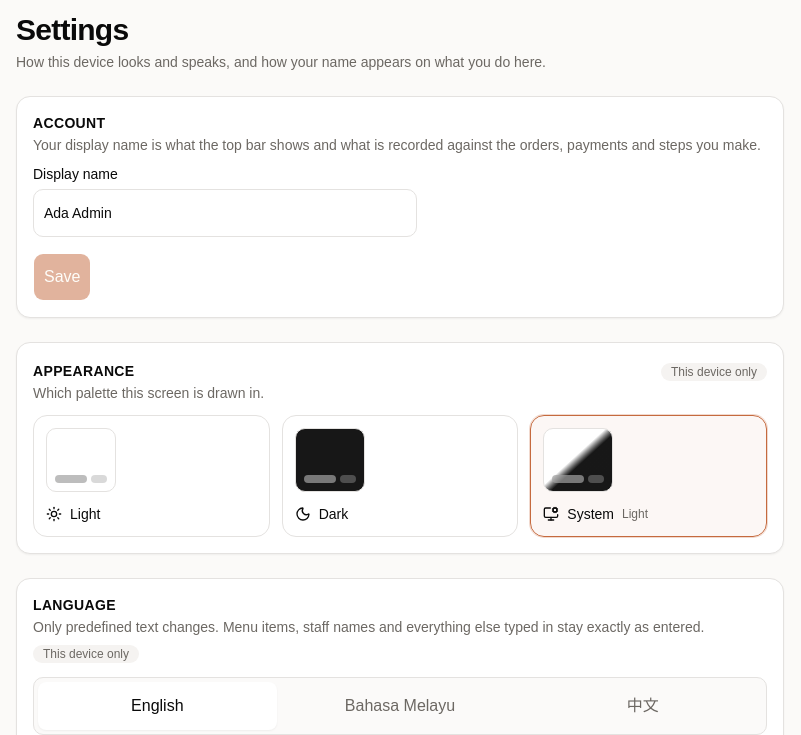
Test: the account panel › reports a refusal as something a person can act on
Replace the text in the field with test id "display-name" with "Ada Lovelace": (225, 213) [33,189,417,237]
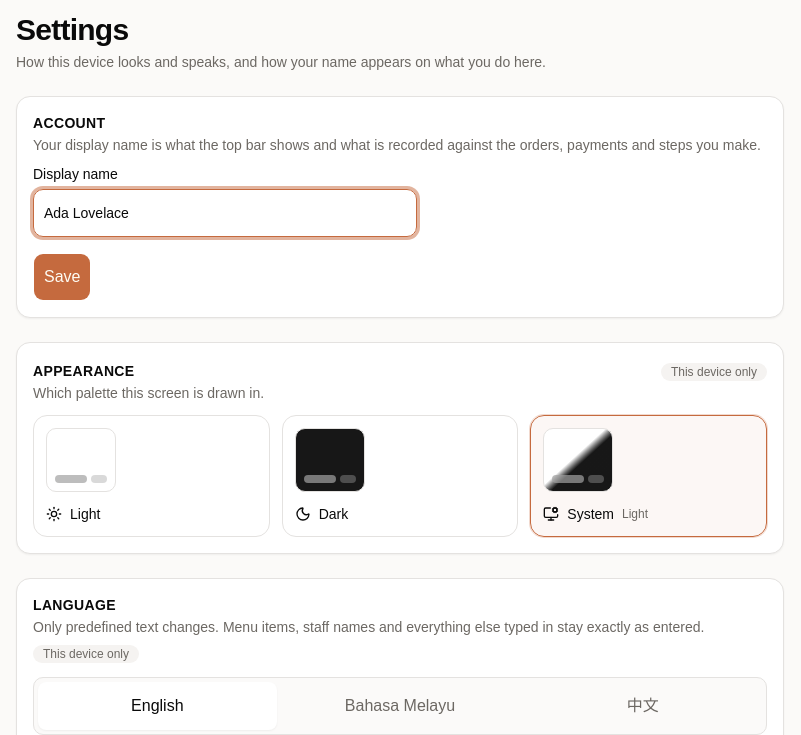
Click the button with test id "save-display-name": (62, 277) [33,253,92,301]
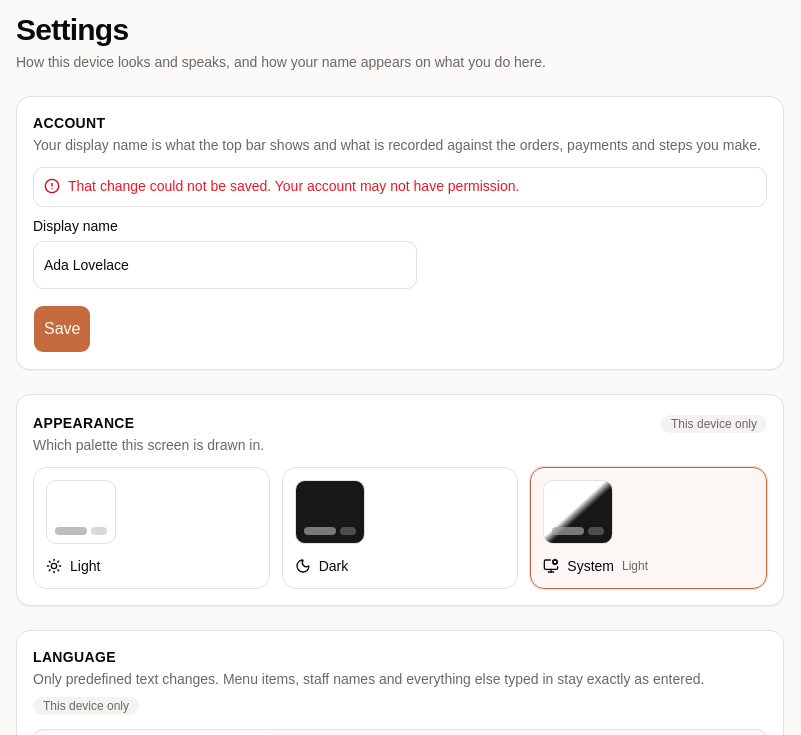
Now the text "That change could not be saved. Your account may not have" is shown, box [68,178,519,194]
